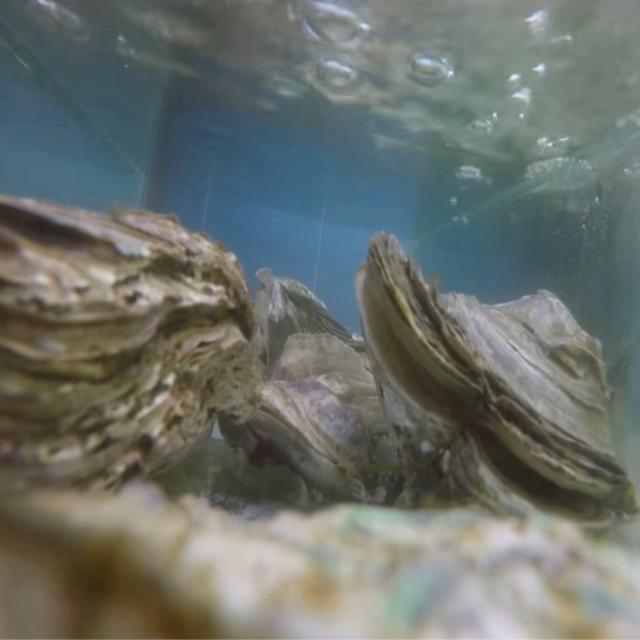Oyster-Closed: (0, 195, 257, 527), (250, 332, 412, 510)
Oyster-Indeterminate: (0, 485, 640, 640), (254, 261, 370, 377)
Oyster-Open: (354, 232, 640, 544)
